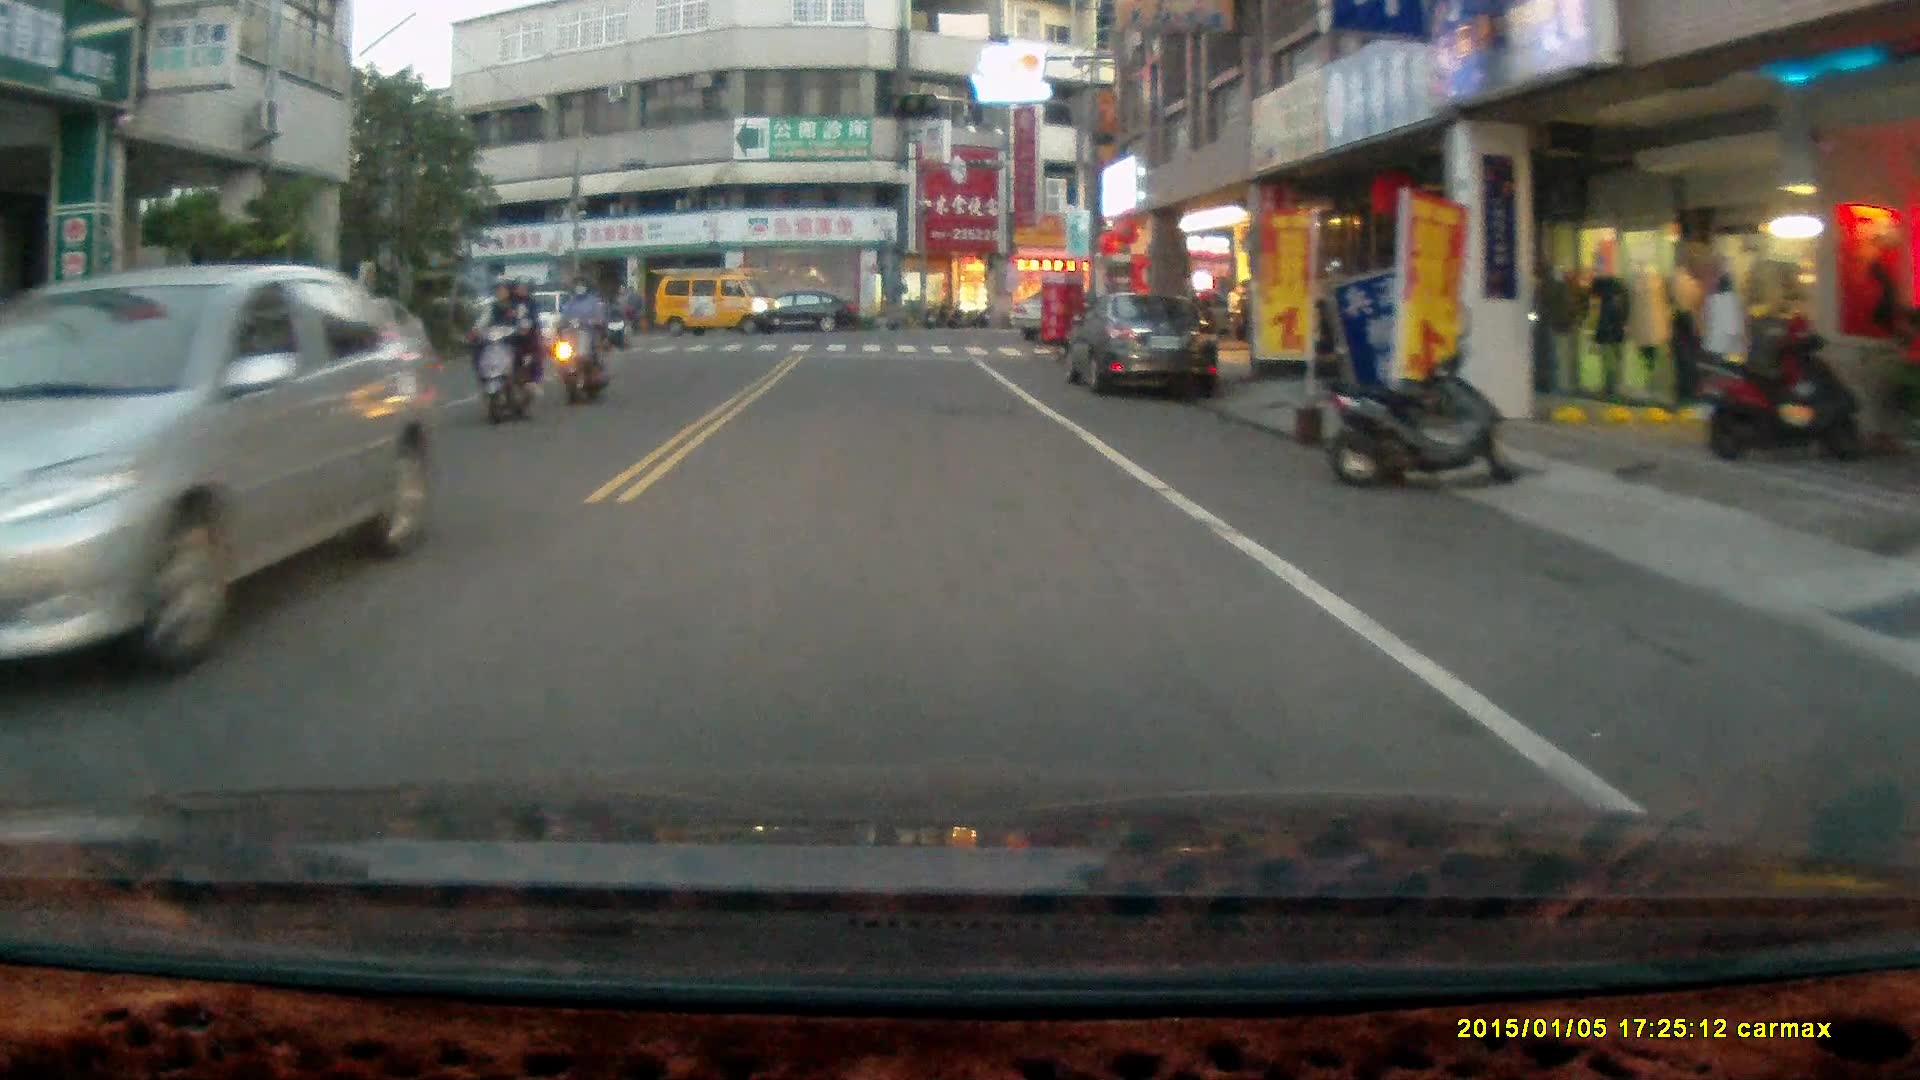rider: (468, 274, 544, 428), (556, 273, 610, 408)
vehicle: (54, 267, 419, 697), (1055, 285, 1228, 409), (649, 264, 788, 336), (743, 291, 859, 337)
